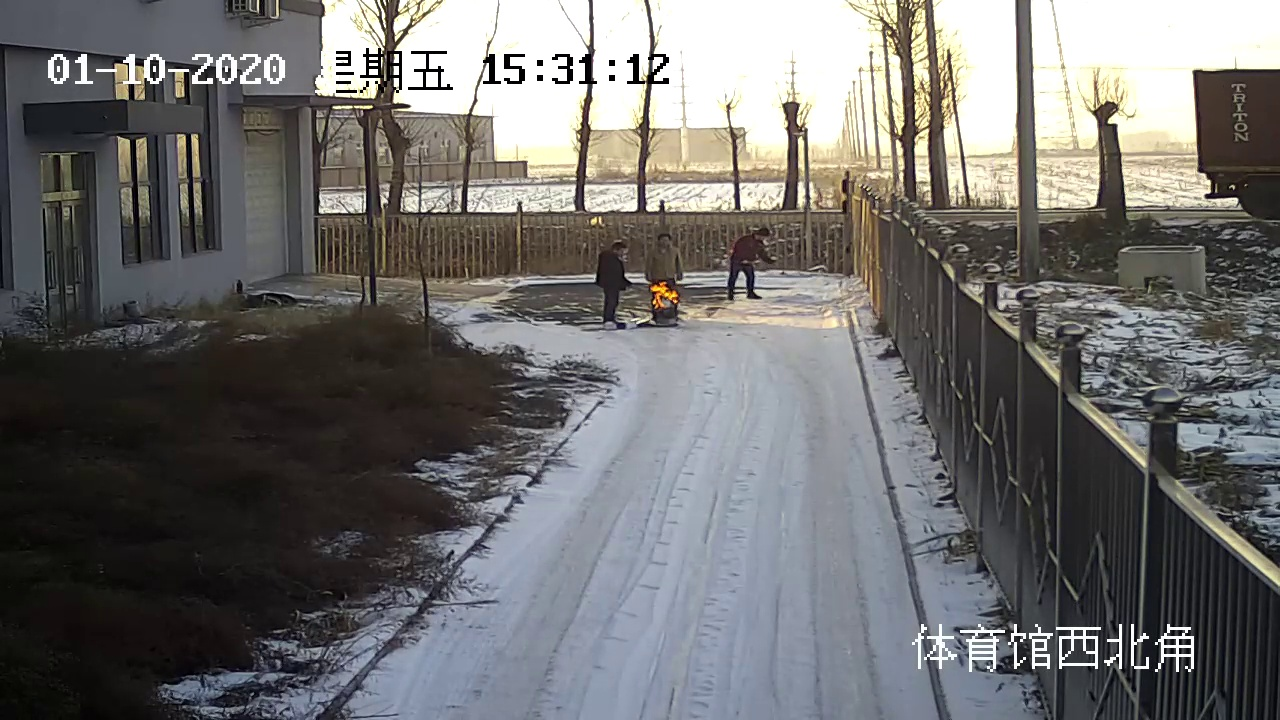fire: (651, 276, 678, 310)
